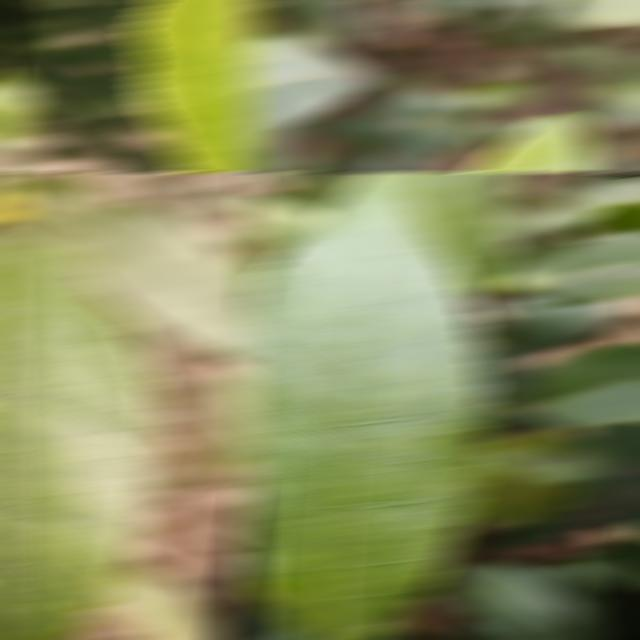Leaf: (241, 172, 493, 640), (0, 232, 166, 640), (14, 205, 257, 363), (496, 231, 620, 358), (241, 35, 377, 147), (400, 172, 518, 294), (445, 561, 588, 640), (521, 342, 640, 428), (98, 565, 215, 640), (529, 231, 640, 303), (198, 366, 257, 476), (550, 0, 640, 28), (241, 254, 274, 294)
